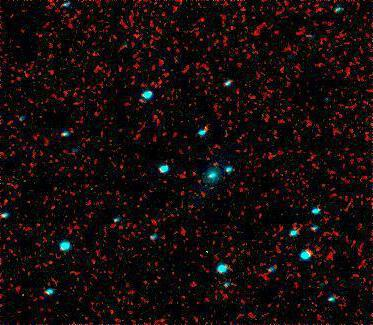star: (77, 172, 107, 202)
